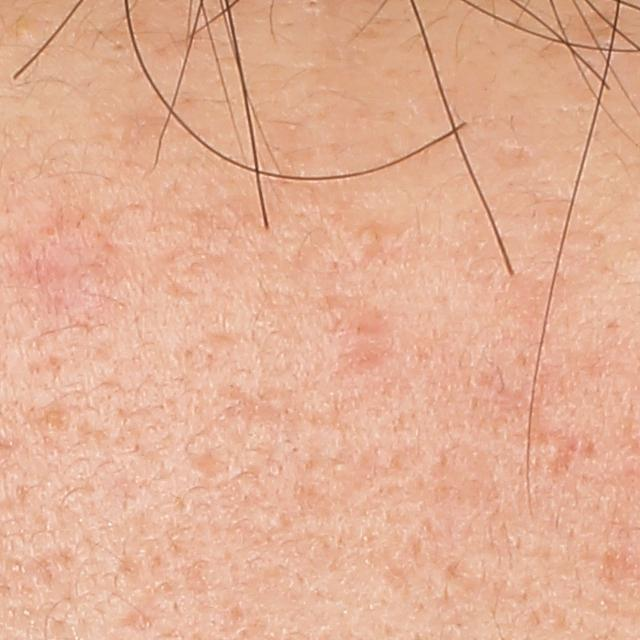comedo: (354, 224, 382, 255), (11, 17, 34, 41), (42, 223, 59, 239)
